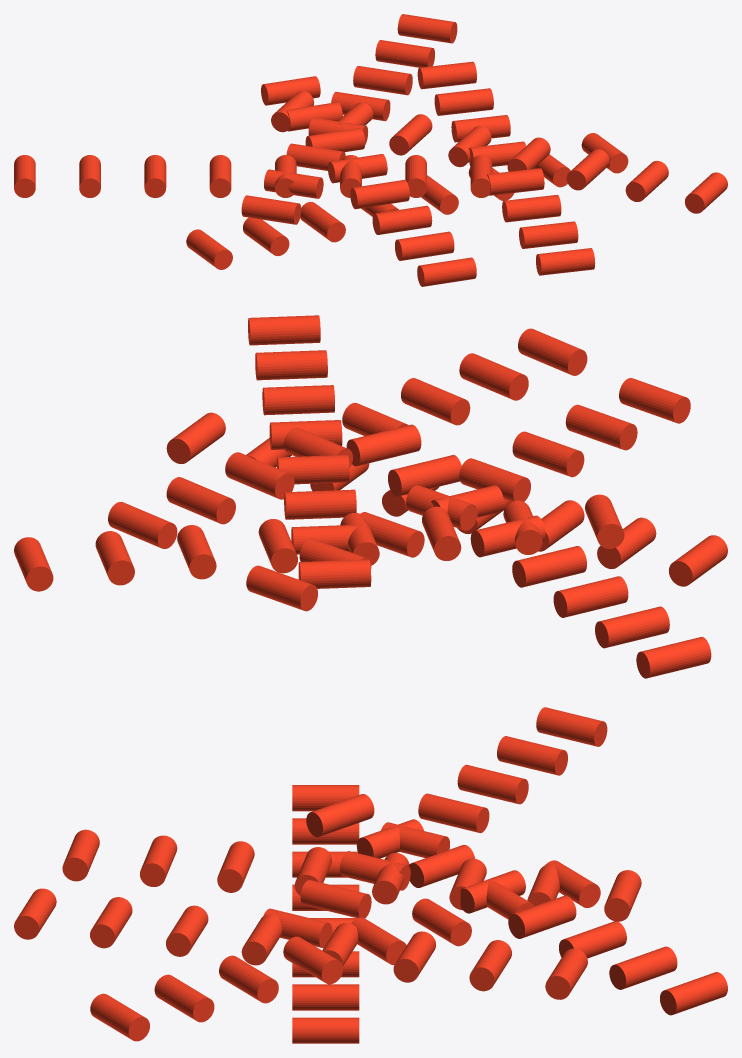
The model's file is souped.fbx.
3 renders of one model, top to bottom at view 1: azimuth 30°, elevation 25°; view 2: azimuth 150°, elevation 25°; view 3: azimuth 270°, elevation 25°, orthographic. The views are drawn at different scales.
Visible parts, largest first — view 1: souped; view 2: souped; view 3: souped.
Part boxes in pixels (x1=…): souped: x1=14, y1=14, x2=727, y2=286; souped: x1=14, y1=315, x2=727, y2=678; souped: x1=14, y1=707, x2=727, y2=1043.
Size of the model in its own units: 69.51 by 4.73 by 66.13.
